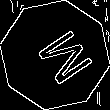M_SW: (21, 22, 89, 88)
